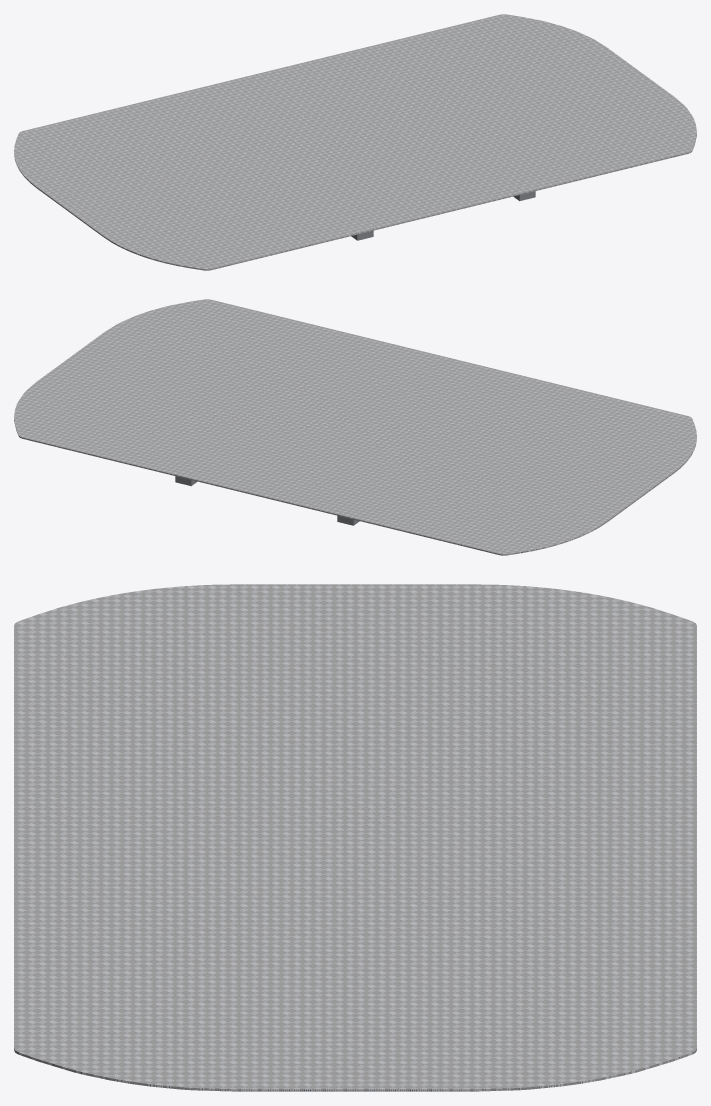
File: deck_plate.dae
The picture shows the model from 3 angles, top to bottom: view 1: azimuth 30°, elevation 25°; view 2: azimuth 150°, elevation 25°; view 3: azimuth 270°, elevation 25°; orthographic projection. The views are drawn at different scales.
Parts seen in each view (by area): view 1: deck_plate; view 2: deck_plate; view 3: deck_plate.
Boxes of the visible parts, x1,y1,x2,y2 form: deck_plate: (14,14,696,270); deck_plate: (14,299,696,555); deck_plate: (14,584,696,1091).
Size of the model in its own units: 1.41 by 0.805 by 0.023.
Materials: 2 (1 with a texture image).
